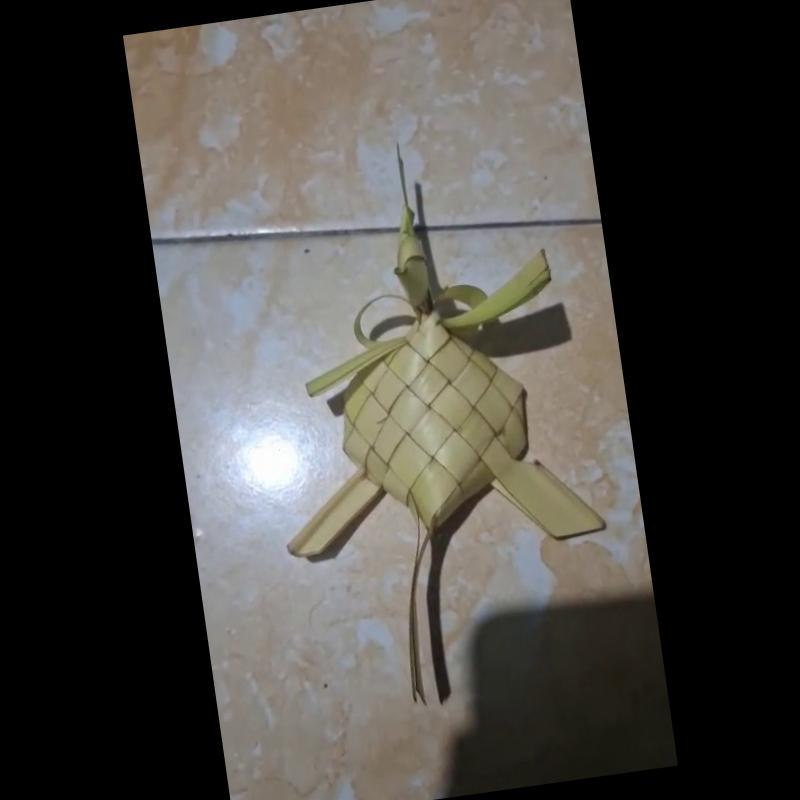Tipat Dampulan: (279, 130, 618, 710)
